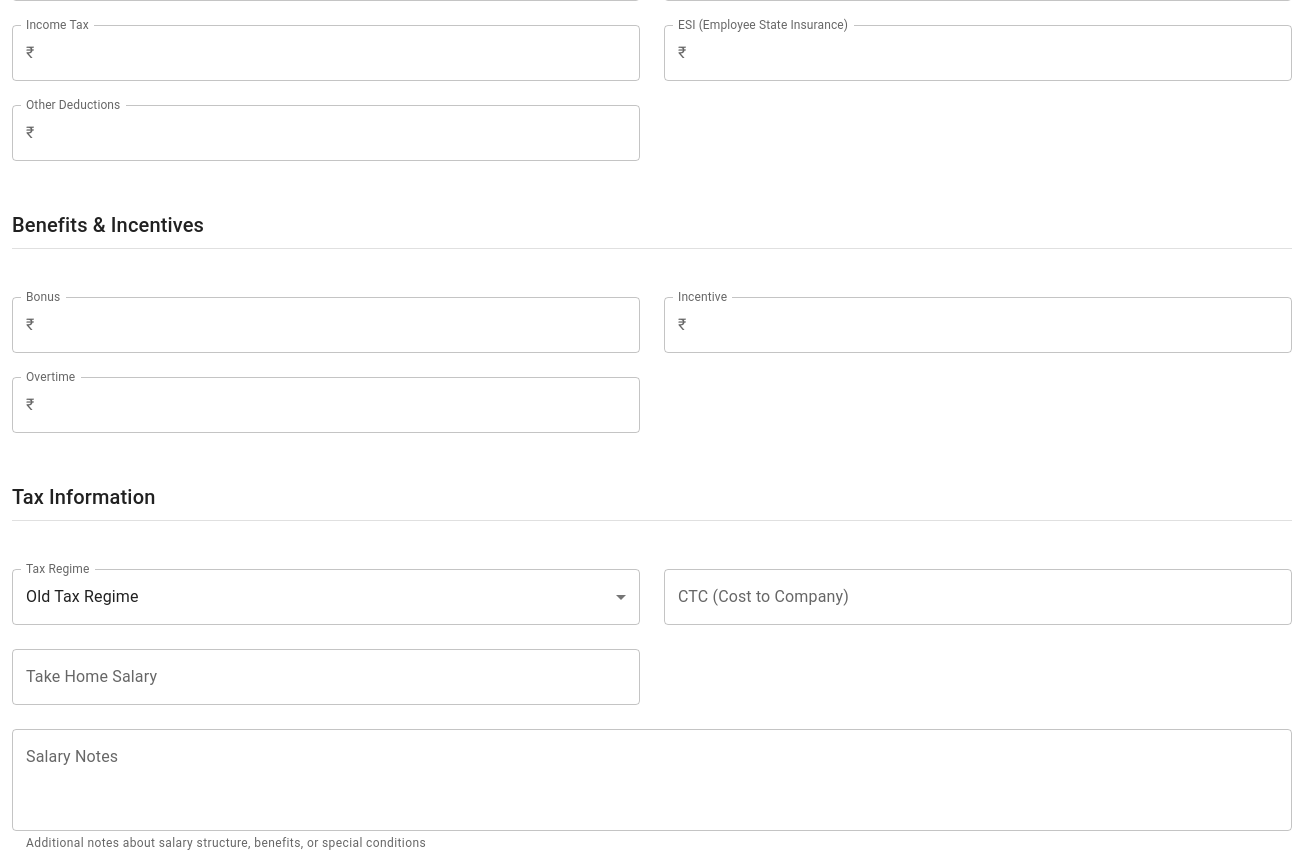
Scenario: SalaryStructureTab › Tax Regime Select › should have Old and New tax regime options
The image size is (1304, 854).
(page scrolled)
Press the mouse on the dropdown with id "salary" at (82, 597), box left=26, top=587, right=139, bottom=606
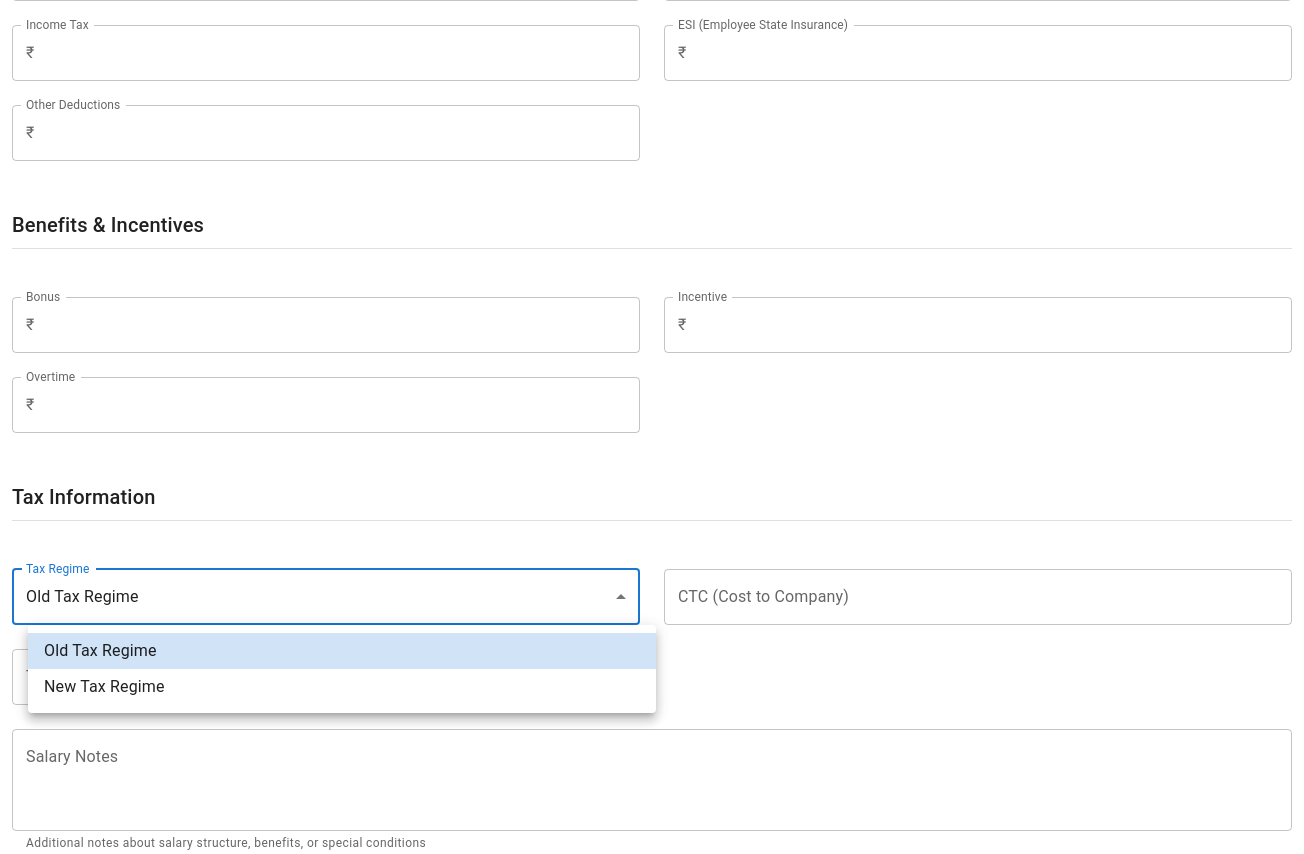
Expected: the option "Old Tax Regime" is shown, left=28, top=633, right=656, bottom=669
Expected: the option "New Tax Regime" is shown, left=44, top=677, right=165, bottom=696
